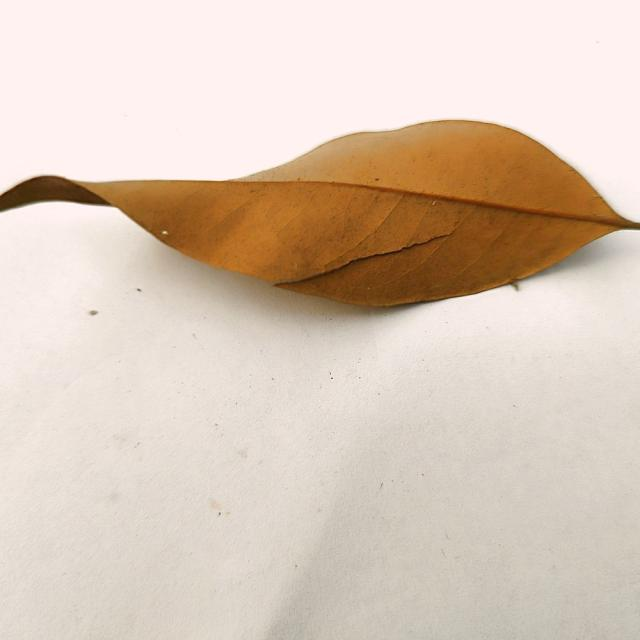Dry_Leaf-Lychee: (0, 120, 639, 312)
